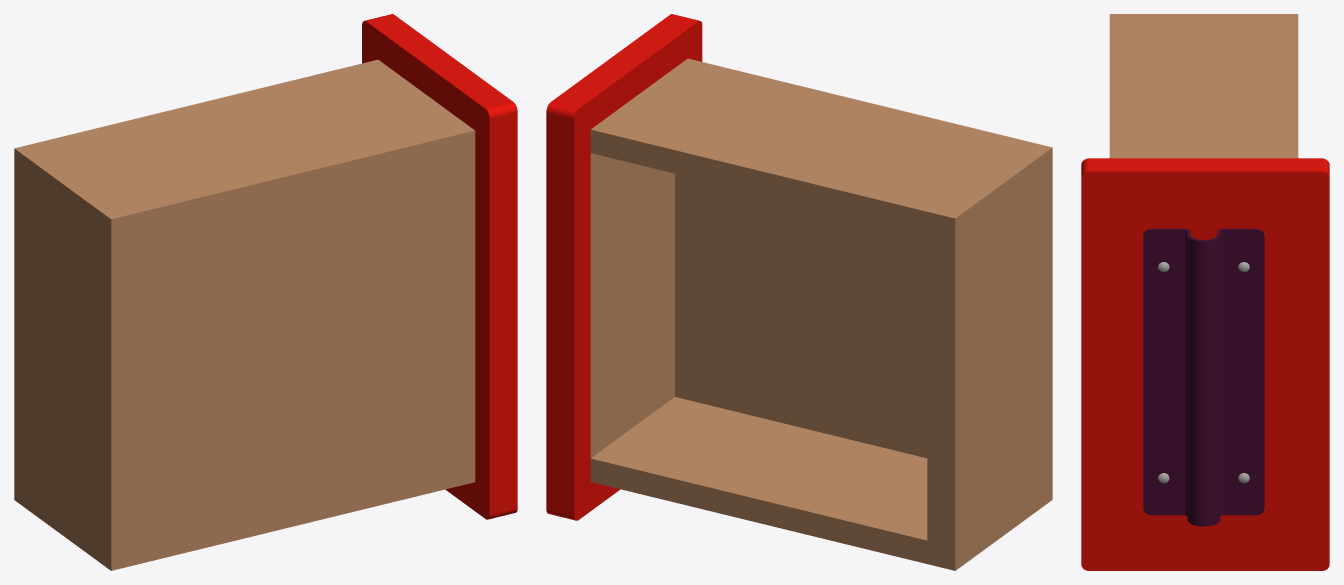
File: drawer.dae
The picture shows the model from 3 angles, left to right: view 1: azimuth 30°, elevation 25°; view 2: azimuth 150°, elevation 25°; view 3: azimuth 270°, elevation 25°; orthographic projection. The views are drawn at different scales.
Visible parts, largest first — view 1: drawer; view 2: drawer; view 3: drawer.
Boxes of the visible parts, x1,y1,x2,y2 form: drawer: (14, 14, 517, 570); drawer: (546, 14, 1052, 570); drawer: (1081, 14, 1329, 570).
Size of the model in its own units: 0.1495 by 0.079 by 0.14.
